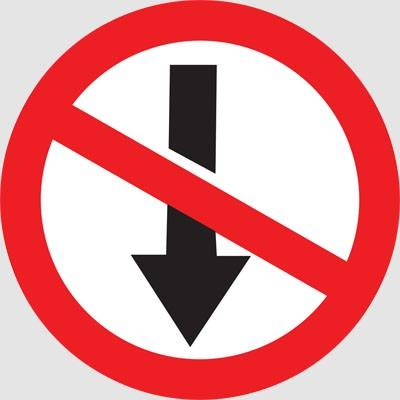Straight Prohibitor No Entry: (17, 23, 369, 381)
